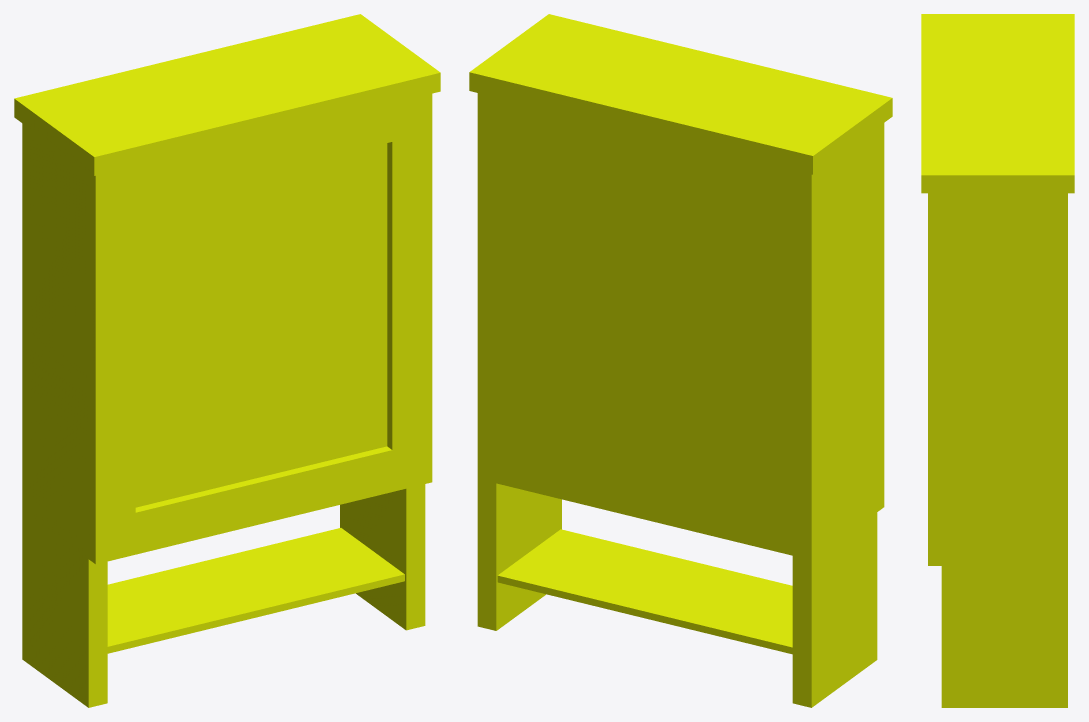
File: MirrorBoard1.FBX
The picture shows the model from 3 angles, left to right: view 1: azimuth 30°, elevation 25°; view 2: azimuth 150°, elevation 25°; view 3: azimuth 270°, elevation 25°; orthographic projection. The views are drawn at different scales.
Visible parts, largest first — view 1: Object005; view 2: Object005; view 3: Object005.
Boxes of the visible parts, bbox=[...] form: Object005: bbox=[14, 14, 440, 707]; Object005: bbox=[469, 14, 892, 707]; Object005: bbox=[921, 14, 1074, 707].
Bounding box in the file's own units: 0.8839 × 1.36 × 0.3544.
